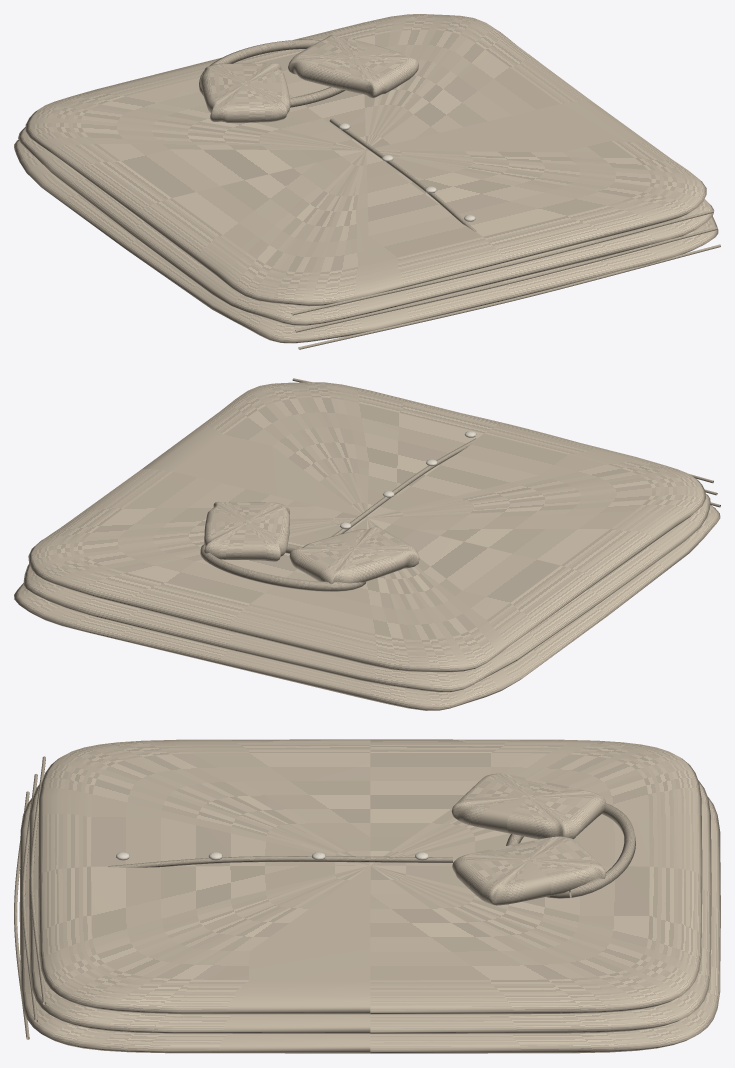
Rendered from folded.glb.
3 renders of one model, top to bottom at view 1: azimuth 30°, elevation 25°; view 2: azimuth 150°, elevation 25°; view 3: azimuth 270°, elevation 25°, orthographic. The views are drawn at different scales.
Visible parts, largest first — view 1: fabric_linen, overshirt fabric seam; view 2: fabric_linen, overshirt fabric seam; view 3: fabric_linen, overshirt fabric seam.
Boxes of the visible parts, box(x1,y1,x2,y2) form: fabric_linen: box(14, 14, 718, 343); overshirt fabric seam: box(199, 39, 720, 349); fabric_linen: box(14, 382, 720, 710); overshirt fabric seam: box(200, 378, 720, 591); fabric_linen: box(19, 739, 720, 1053); overshirt fabric seam: box(14, 756, 635, 1039).
Bounding box in the file's own units: 0.3224 × 0.0507 × 0.3428.
Materials: 3 (3 with a texture image).
